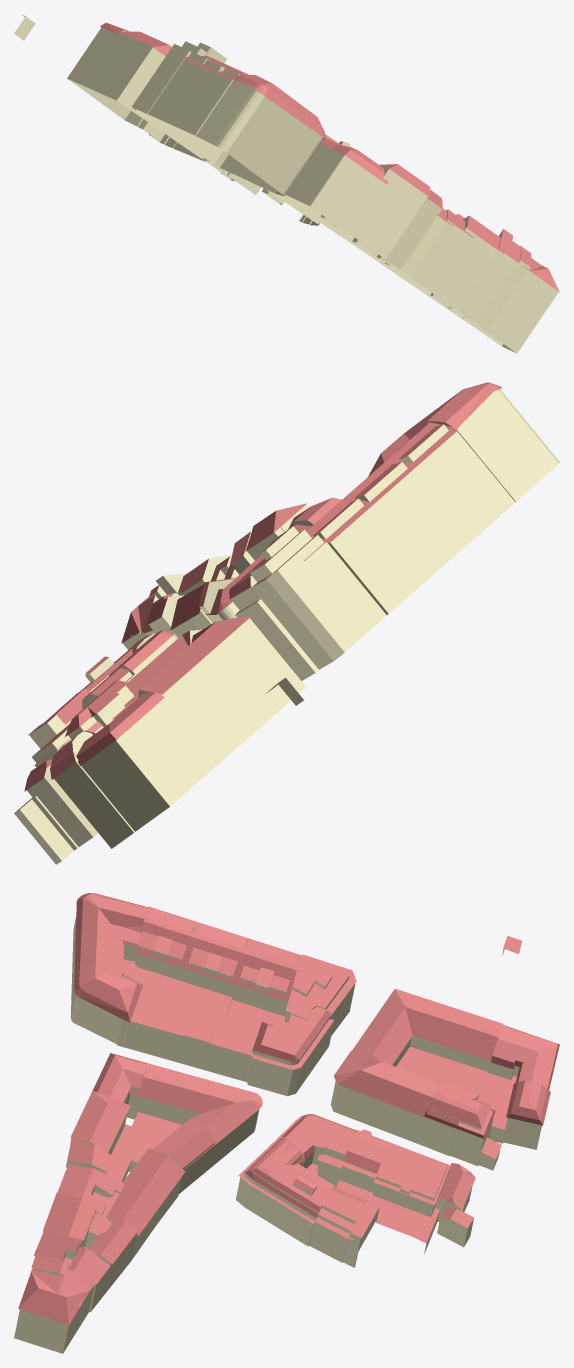
The model's file is tile_040.glb.
3 views of the same model, one above another, from view 1: azimuth 30°, elevation 25°; view 2: azimuth 150°, elevation 25°; view 3: azimuth 270°, elevation 25° (orthographic). The views are drawn at different scales.
Visible parts, largest first — view 1: Batched_Building_ID_405CBB57-40A7-4F2E-A6F9-03FC91ADA8C4; view 2: Batched_Building_ID_405CBB57-40A7-4F2E-A6F9-03FC91ADA8C4; view 3: Batched_Building_ID_405CBB57-40A7-4F2E-A6F9-03FC91ADA8C4.
Part boxes in pixels (<box>): Batched_Building_ID_405CBB57-40A7-4F2E-A6F9-03FC91ADA8C4: <box>14,15,559,353</box>; Batched_Building_ID_405CBB57-40A7-4F2E-A6F9-03FC91ADA8C4: <box>14,382,559,864</box>; Batched_Building_ID_405CBB57-40A7-4F2E-A6F9-03FC91ADA8C4: <box>14,893,559,1353</box>.
Size of the model in its own units: 137 by 122 by 179.
